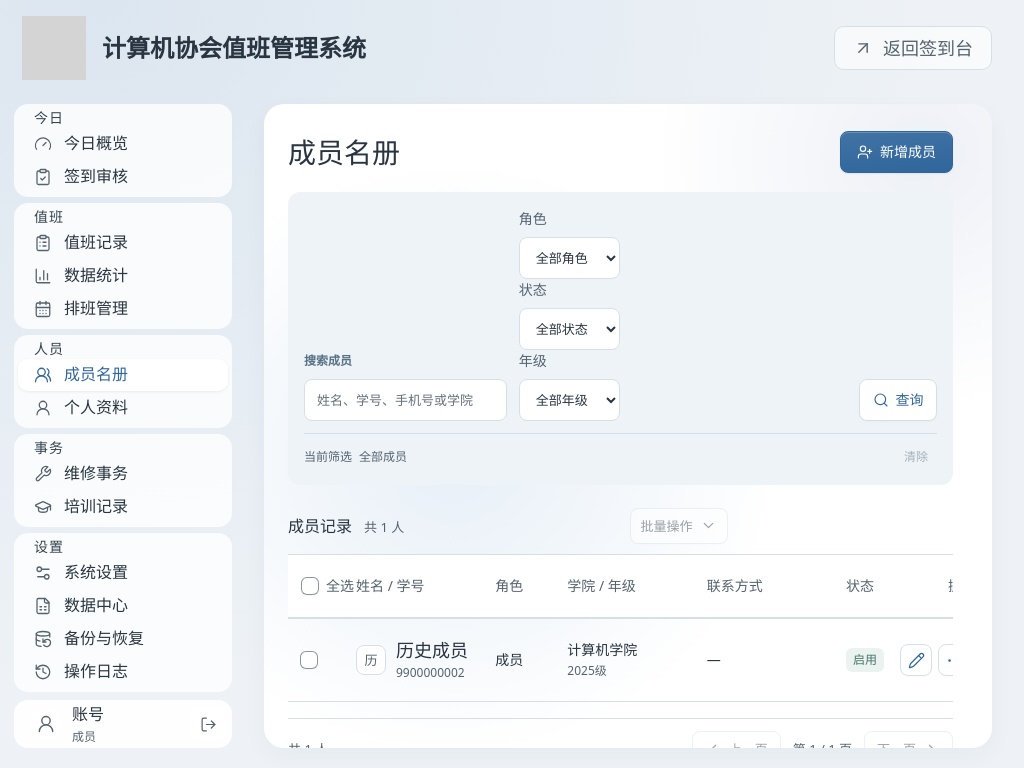
Test case: MembersPage selection › keeps one result toolbar while member selection changes
This screenshot has width=1024, height=768.
Expected: the button "批量操作" is disabled, [630,508,728,544]
Click the checkbox named "memberSelection-2" at point(309, 660), box [300,651,318,669]
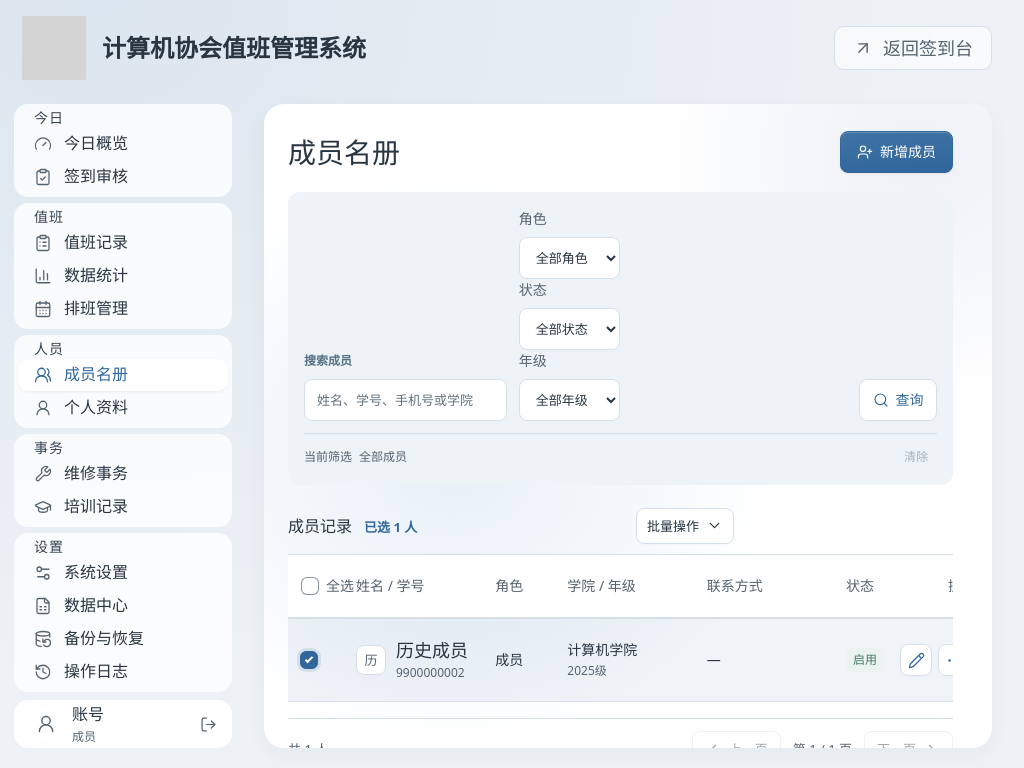
Now the element with class "member-result-summary" shows "已选 1 人", box [364,518,417,536]
Now the button "批量操作" is enabled
Click the button "批量操作" at point(685, 526), box [636,508,734,544]
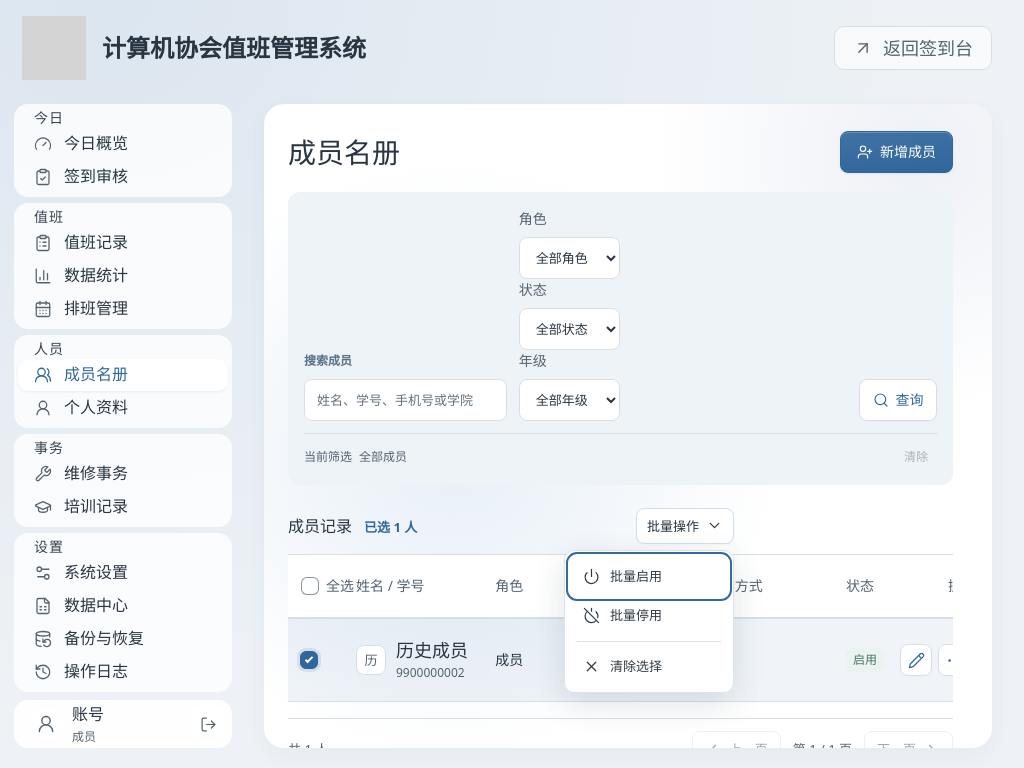
Now the number of menu items is 3
Click the menu item "清除选择" at point(649, 666), box [571,647,727,686]
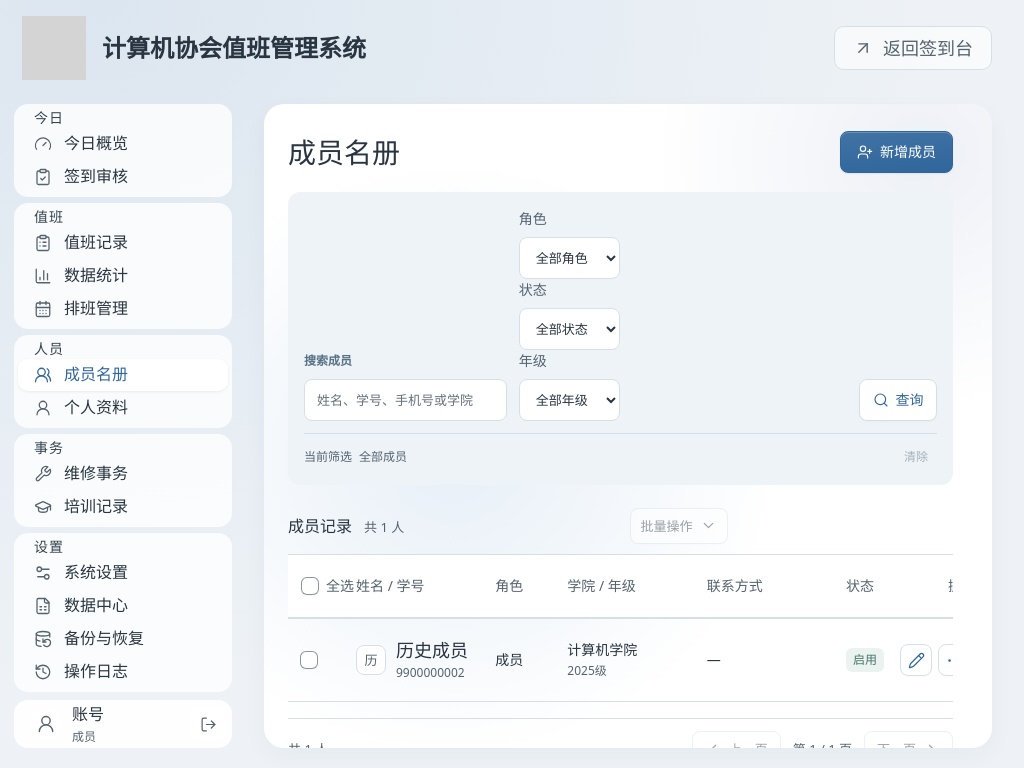
Now the element with class "member-result-summary" shows "共 1 人", box [364,518,404,536]
Now the button "批量操作" is disabled, box [630,508,728,544]
